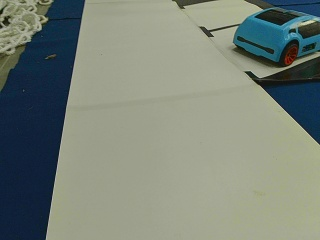car: (231, 7, 318, 65)
